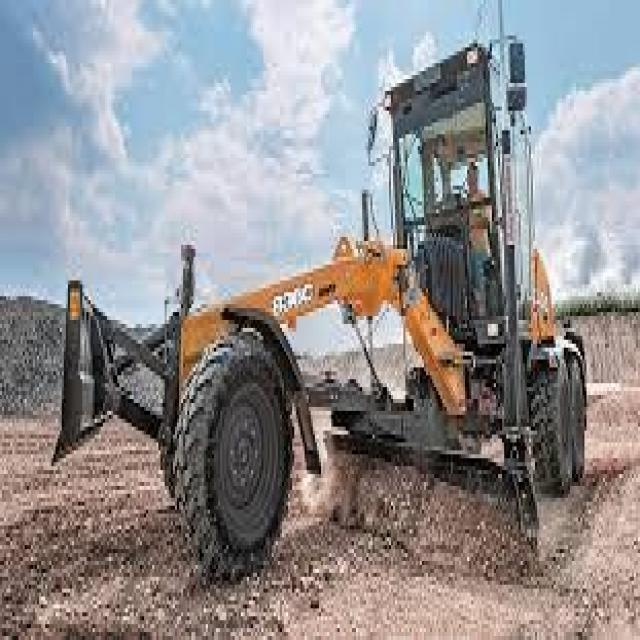Grader: (37, 39, 595, 565)
